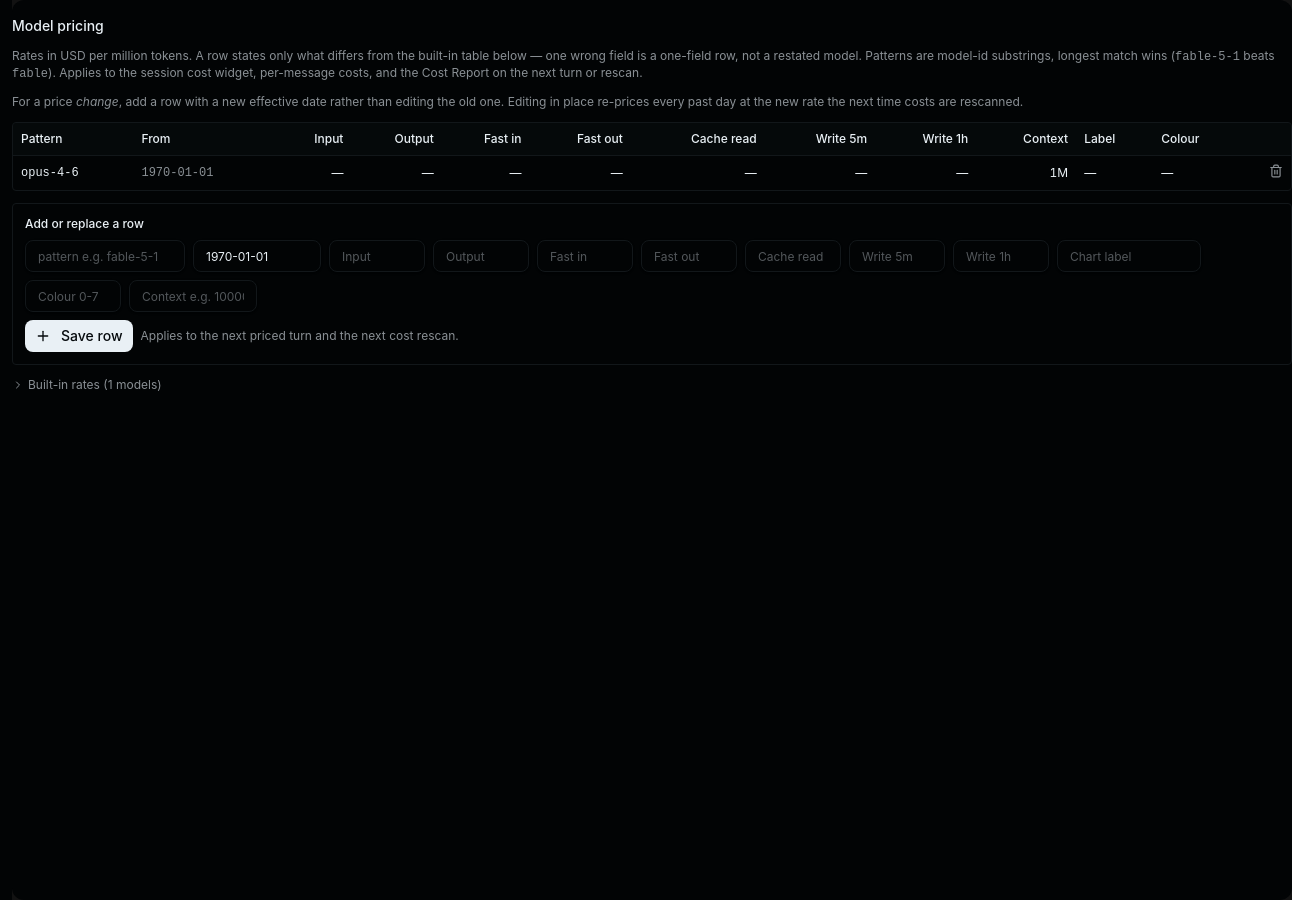
ModelPricingEditor save feedback › reports a rejected row in the save indicator and keeps the draft
The image size is (1292, 900).
Expected: the text "opus-4-6" is shown, [13,156,133,190]
In the field named "Model pattern": x=105, y=256 [25,240,185,272], type "opus-9"
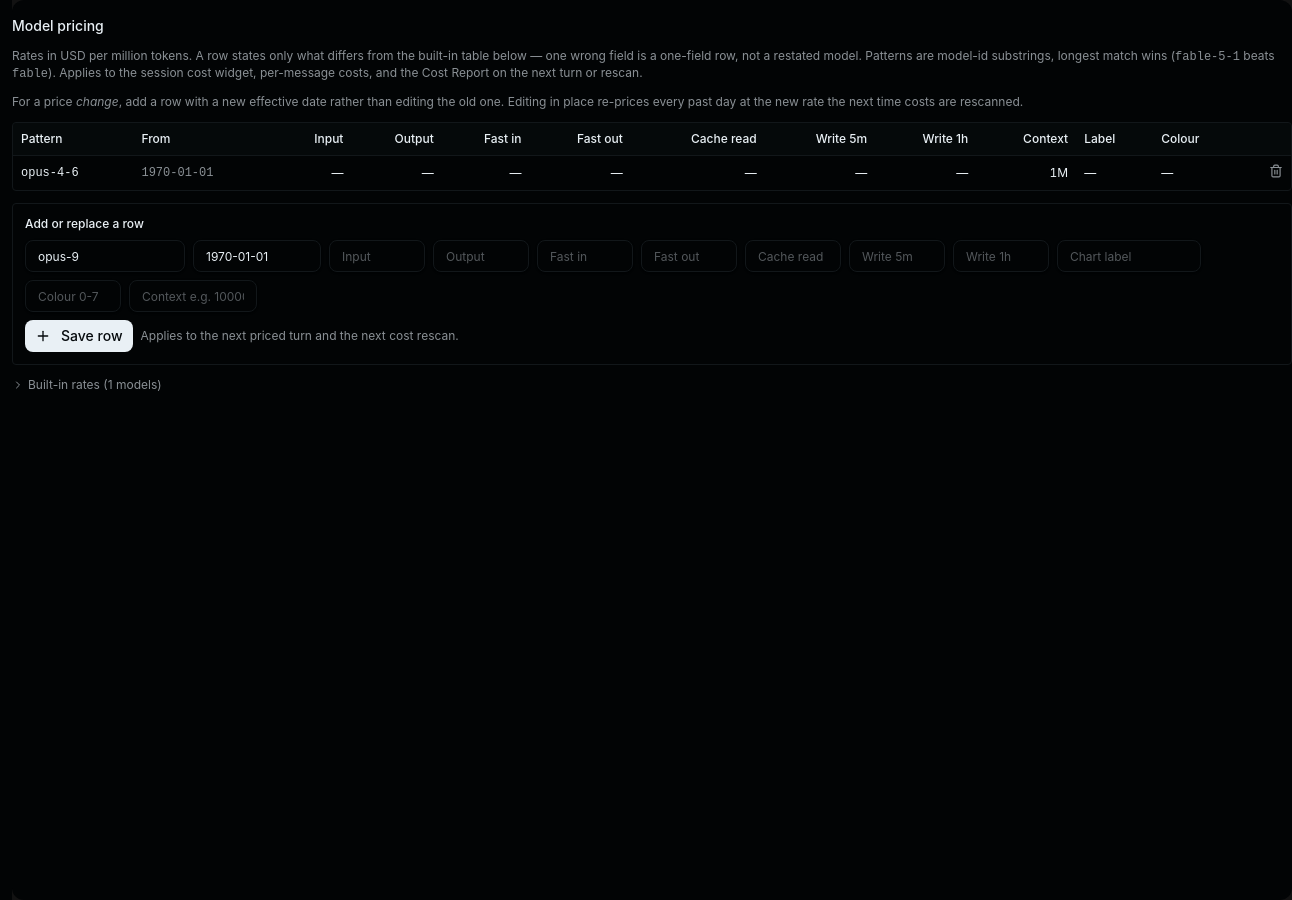
Click the button "Save row": x=79, y=336 [25,320,132,352]
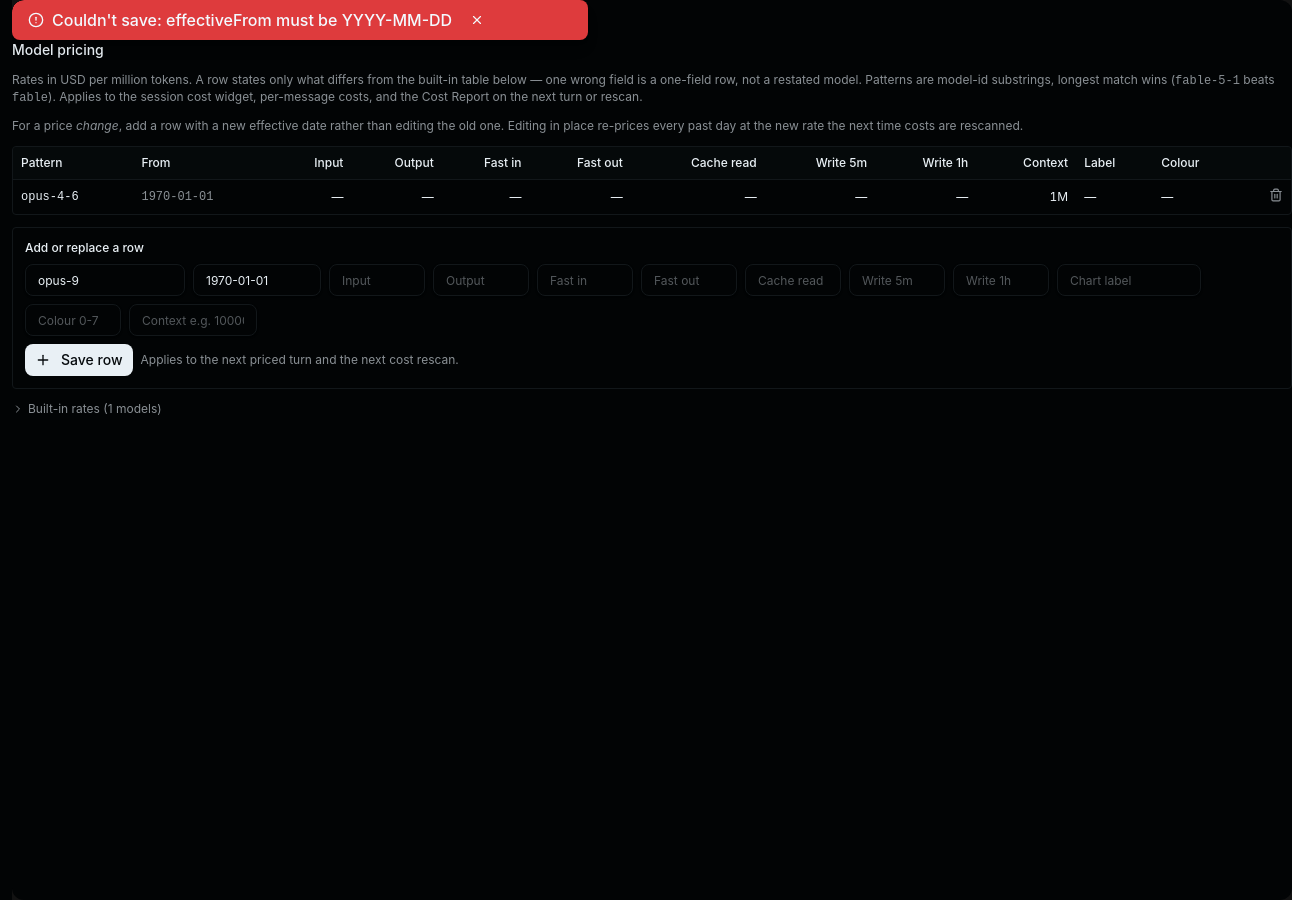
Now the message shows "effectiveFrom must be YYYY-MM-DD", box [166,10,452,30]
